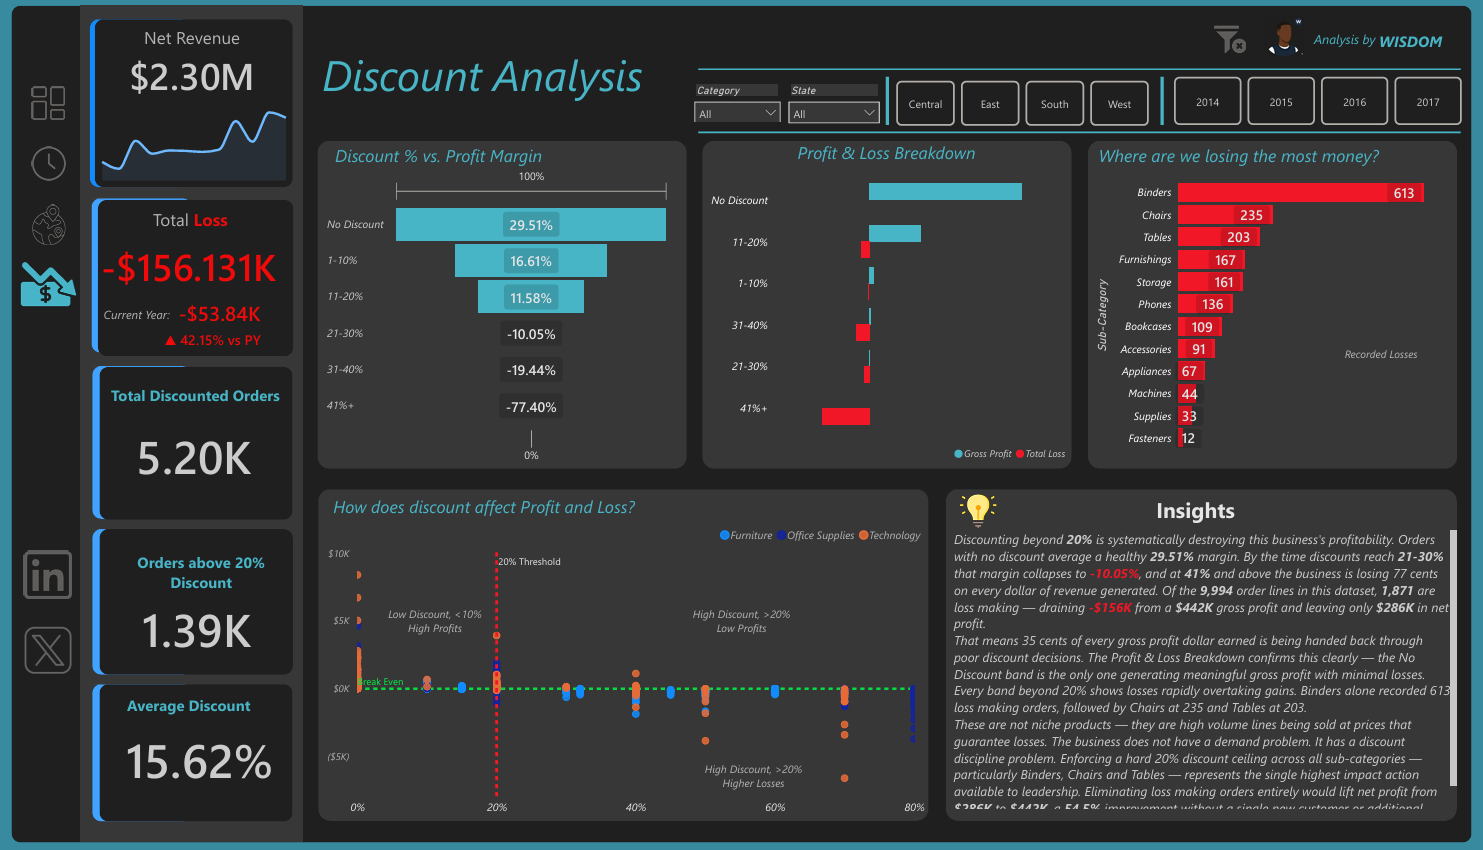

The dashboard page shown, as its layout file describes it:
{"tool":"powerbi","page":{"name":"Discount Analysis","canvas":[1900,1080],"ordinal":3},"visuals":[{"type":"shape","box":[35.8,16.4,1828.2,1046.8],"z":0},{"type":"group","id":"g1","title":"Group 1","box":[134.3,32.8,253.6,210.3],"z":0,"group":"g5"},{"type":"shape","box":[134.3,32.8,123.9,209.8],"z":0,"group":"g1"},{"type":"textbox","box":[1661.6,41.8,96.3,62.6],"z":0,"group":"g4"},{"type":"shape","box":[135.7,257.3,125.1,192.8],"z":0,"group":"g6"},{"type":"cardVisual","fields":{"Data":["Dax.Total Loss(Negative Profit)"]},"box":[67.1,280.4,381.8,117.8],"z":0,"group":"g7"},{"type":"shape","box":[137.2,466.9,123.8,190.9],"z":0,"group":"g8"},{"type":"shape","box":[137.2,671.2,124,181.9],"z":0,"group":"g2"},{"type":"shape","box":[137.2,865.1,123.8,171.5],"z":0,"group":"g3"},{"type":"shape","box":[122.3,16.4,278.9,1046.8],"z":1000},{"type":"shape","box":[140.3,32.8,247.8,209.8],"z":1000,"group":"g1"},{"type":"textbox","box":[1739.8,41.8,96.3,62.6],"z":1000,"group":"g4"},{"type":"cardVisual","fields":{"Data":["Dax.Total Revenue"]},"box":[126.8,43.2,270,117.8],"z":1000,"group":"g5"},{"type":"shape","box":[143.2,259.4,244.5,195.4],"z":1000,"group":"g6"},{"type":"textbox","box":[168.5,262.5,183.5,53.7],"z":1000,"group":"g7"},{"type":"shape","box":[146.1,468.4,241.6,190.9],"z":1000,"group":"g8"},{"type":"shape","box":[145.8,671.3,242,181.9],"z":1000,"group":"g2"},{"type":"shape","box":[146.1,865.1,241.6,171.5],"z":1000,"group":"g3"},{"type":"textbox","box":[170.1,35.8,183.5,53.7],"z":2000,"group":"g5"},{"type":"cardVisual","fields":{"Data":["Yoys.Current Year Total Loss"]},"box":[207.3,368.4,179,59.7],"z":2000,"group":"g7"},{"type":"shape","box":[419.9,621.4,764.2,414.8],"z":2000},{"type":"lineChart","fields":{"Y":["Dax.Gross Revenue"],"Category":["Superstore Sales Data.Order Date.Variation.Date Hierarchy.Month"]},"box":[135.7,123.8,256.5,116.3],"z":3000,"group":"g5"},{"type":"shape","box":[419.1,185,462.4,410.2],"z":3000},{"type":"textbox","box":[146.2,386.3,117.8,37.3],"z":3000,"group":"g7"},{"type":"shape","box":[900.9,185,462.4,410.2],"z":4000},{"type":"cardVisual","fields":{"Data":["Kpi Labels.Loss Display"]},"box":[161.9,398.9,252,67.8],"z":4000,"group":"g7"},{"type":"shape","box":[1384.2,185,462.4,410.2],"z":5000},{"type":"clusteredBarChart","fields":{"Category":["Superstore Sales Data.Discount Band"],"Y":["KPIs.Gross Profit","KPIs.Total Loss(Negative Profit)"]},"box":[900.2,204.9,465.2,389.6],"z":6000},{"type":"group","id":"g2","title":"Group 2","box":[137.2,671.2,250.6,182],"z":7000},{"type":"group","id":"g3","title":"Group 3","box":[137.2,865.1,250.6,171.5],"z":8000},{"type":"cardVisual","fields":{"Data":["Dax.Average Discount"]},"box":[134.2,885.2,274.4,144.6],"z":9000},{"type":"textbox","box":[174.7,693.6,196.5,68.9],"z":10000},{"type":"cardVisual","fields":{"Data":["KPIs.Orders Above 20% Discount"]},"box":[141.1,723.9,253.6,139.4],"z":11000},{"type":"textbox","box":[165.6,872.6,183.5,53.7],"z":12000},{"type":"textbox","box":[419.1,59.7,462.4,91],"z":13000},{"type":"image","box":[43.3,698,77.6,61.2],"z":14000},{"type":"image","box":[46.2,790.5,71.6,62.6],"z":15000},{"type":"group","id":"g4","title":"Group 1","box":[1661.6,41.8,174.5,62.6],"z":16000},{"type":"image","box":[1585.5,28.3,86.5,50.7],"z":17000},{"type":"group","id":"g5","title":"Group 4","box":[126.8,32.8,270,210.3],"z":18000},{"type":"group","id":"g6","title":"Group 6","box":[135.7,257.3,252.1,196.9],"z":19000},{"type":"group","id":"g7","title":"Group 5","box":[67.1,262.5,381.8,204.3],"z":20000},{"type":"group","id":"g8","title":"Group 8","box":[137.2,466.9,250.6,192.4],"z":21000},{"type":"image","box":[1540.2,38.4,45.7,39.8],"z":22000},{"type":"shape","box":[896.4,82,954.6,26.8],"z":23000},{"type":"group","id":"g9","title":"Group 9","box":[1096.3,32.8,277.4,53.7],"z":24000},{"type":"shape","box":[896.4,161.1,954.6,26.8],"z":25000},{"type":"textbox","box":[1383.8,184.4,377.7,48.7],"z":26000},{"type":"textbox","box":[961.9,180,339.3,48.7],"z":27000},{"type":"image","box":[61.2,186.4,43.3,55.2],"z":28000},{"type":"image","box":[56.7,259.5,50.7,61.2],"z":29000},{"type":"image","box":[46.2,310.2,71.6,108.9],"z":30000},{"type":"image","box":[61.2,116.3,41.8,44.7],"z":31000},{"type":"funnel","fields":{"Category":["Superstore Sales Data.Discount Band"],"Y":["KPIs.Profit Margin %"]},"box":[426.3,212.4,439.6,382.1],"z":32000},{"type":"scatterChart","fields":{"X":["Superstore Sales Data.Discount"],"Y":["Superstore Sales Data.Profit"],"Series":["Superstore Sales Data.Category"]},"box":[426.3,658,758.3,380.6],"z":33000},{"type":"textbox","box":[482.4,762.7,168.2,59],"z":34000},{"type":"textbox","box":[866,762.7,168.2,59],"z":35000},{"type":"textbox","box":[880.7,957.4,168.2,59],"z":36000},{"type":"textbox","box":[414.5,622.6,424.9,48.7],"z":37000},{"type":"shape","box":[1205.9,621.4,639.9,414.8],"z":38000},{"type":"textbox","box":[1667,438.1,168.2,44.3],"z":39000},{"type":"clusteredBarChart","fields":{"Category":["Superstore Sales Data.Sub-Category"],"Y":["Superstore Sales Data.Loss Order Count"]},"box":[1388.2,213.9,457.3,371.8],"z":40000},{"type":"textbox","box":[401.3,184.4,339.3,48.7],"z":41000},{"type":"cardVisual","fields":{"Data":["KPIs.Total Discounted Orders"]},"box":[138.3,507.2,252.9,139.8],"z":42000},{"type":"textbox","box":[147.3,486.4,238,53.6],"z":43000},{"type":"textbox","box":[1211.2,668.3,640.3,358.5],"z":44000},{"type":"image","box":[1192,624,109.2,48.7],"z":45000},{"type":"textbox","box":[1369,622.6,299.5,45.7],"z":46000},{"type":"slicer","fields":{"Values":["Superstore Sales Data.State"]},"box":[998.7,109.2,134.2,54.6],"z":47000},{"type":"slicer","fields":{"Values":["Superstore Sales Data.Category"]},"box":[880.7,109.2,128.3,51.6],"z":48000},{"type":"advancedSlicerVisual","fields":{"Values":["Superstore Sales Data.Ship Date.Variation.Date Hierarchy.Year"]},"box":[1487.1,100.3,371.8,70.8],"z":49000},{"type":"advancedSlicerVisual","fields":{"Values":["Superstore Sales Data.Region"]},"box":[1138.9,104.7,327.5,66.4],"z":50000},{"type":"shape","box":[1462,104.7,29.5,60.5],"z":51000},{"type":"shape","box":[1125.6,104.7,13.3,60.5],"z":52000}]}

Visuals, with their boxes in screenshot pixels (x1, y1, x2, y2), scaled from the page's 1900x1080 canvas onto the 1483x850 screenshot:
shape: 28 13 1455 837
"Group 1" group: 105 26 303 191
shape: 105 26 202 191
textbox: 1297 33 1372 82
shape: 106 203 204 354
cardVisual - Dax.Total Loss(Negative Profit): 52 221 350 313
shape: 107 367 204 518
shape: 107 528 204 671
shape: 107 681 204 816
shape: 95 13 313 837
shape: 110 26 303 191
textbox: 1358 33 1433 82
cardVisual - Dax.Total Revenue: 99 34 310 127
shape: 112 204 303 358
textbox: 132 207 275 249
shape: 114 369 303 519
shape: 114 528 303 672
shape: 114 681 303 816
textbox: 133 28 276 70
cardVisual - Yoys.Current Year Total Loss: 162 290 302 337
shape: 328 489 924 816
lineChart - Dax.Gross Revenue x Superstore Sales Data.Order Date.Variation.Date Hierarchy.Month: 106 97 306 189
shape: 327 146 688 468
textbox: 114 304 206 333
shape: 703 146 1064 468
cardVisual - Kpi Labels.Loss Display: 126 314 323 367
shape: 1080 146 1441 468
clusteredBarChart - Superstore Sales Data.Discount Band x KPIs.Gross Profit: 703 161 1066 468
"Group 2" group: 107 528 303 672
"Group 3" group: 107 681 303 816
cardVisual - Dax.Average Discount: 105 697 319 810
textbox: 136 546 290 600
cardVisual - KPIs.Orders Above 20% Discount: 110 570 308 679
textbox: 129 687 272 729
textbox: 327 47 688 119
image: 34 549 94 598
image: 36 622 92 671
"Group 1" group: 1297 33 1433 82
image: 1238 22 1305 62
"Group 4" group: 99 26 310 191
"Group 6" group: 106 203 303 357
"Group 5" group: 52 207 350 367
"Group 8" group: 107 367 303 519
image: 1202 30 1238 62
shape: 700 65 1445 86
"Group 9" group: 856 26 1072 68
shape: 700 127 1445 148
textbox: 1080 145 1375 183
textbox: 751 142 1016 180
image: 48 147 82 190
image: 44 204 84 252
image: 36 244 92 330
image: 48 92 80 127
funnel - Superstore Sales Data.Discount Band x KPIs.Profit Margin %: 333 167 676 468
scatterChart - Superstore Sales Data.Discount x Superstore Sales Data.Profit: 333 518 925 817
textbox: 377 600 508 647
textbox: 676 600 807 647
textbox: 687 754 819 800
textbox: 324 490 655 528
shape: 941 489 1441 816
textbox: 1301 345 1432 380
clusteredBarChart - Superstore Sales Data.Sub-Category x Superstore Sales Data.Loss Order Count: 1084 168 1440 461
textbox: 313 145 578 183
cardVisual - KPIs.Total Discounted Orders: 108 399 305 509
textbox: 115 383 301 425
textbox: 945 526 1445 808
image: 930 491 1016 529
textbox: 1069 490 1302 526
slicer - Superstore Sales Data.State: 780 86 884 129
slicer - Superstore Sales Data.Category: 687 86 788 127
advancedSlicerVisual - Superstore Sales Data.Ship Date.Variation.Date Hierarchy.Year: 1161 79 1451 135
advancedSlicerVisual - Superstore Sales Data.Region: 889 82 1145 135
shape: 1141 82 1164 130
shape: 879 82 889 130
